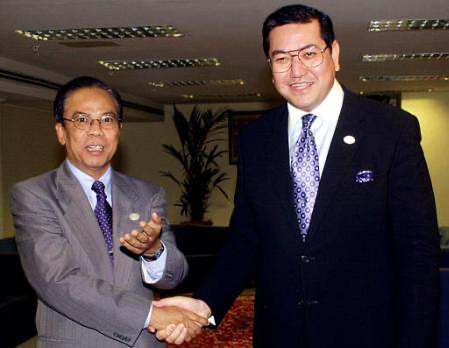Face: (268, 37, 332, 110), (66, 102, 123, 172)
